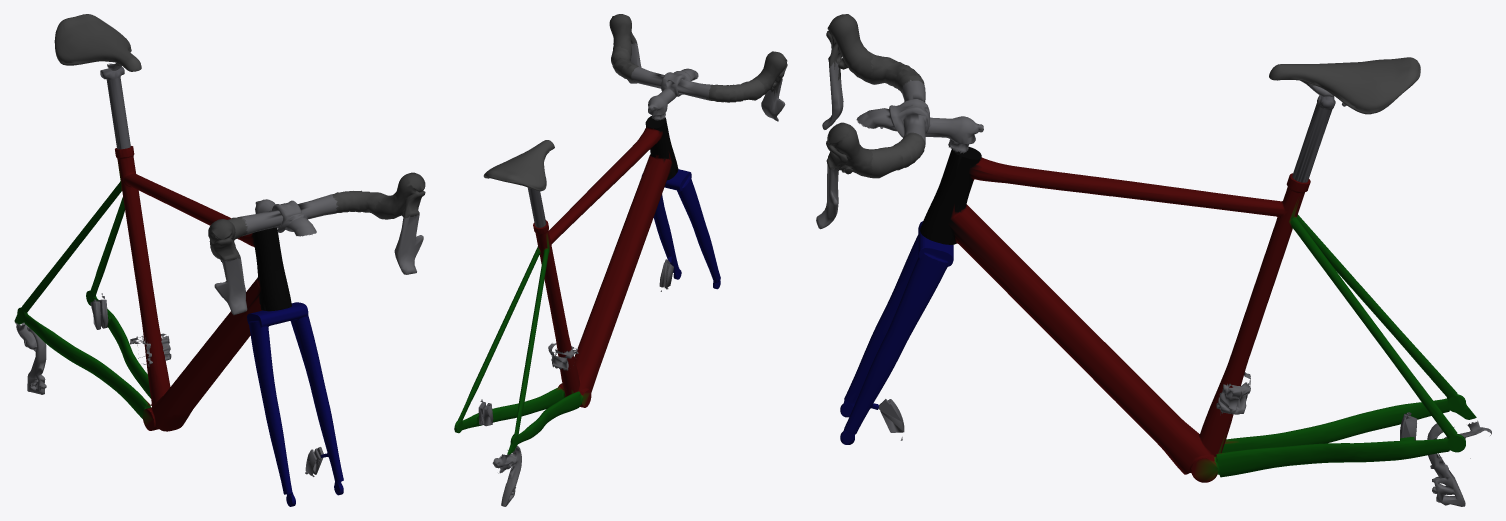
The model's file is look785m_lod1.glb.
The picture shows the model from 3 angles, left to right: view 1: azimuth 30°, elevation 25°; view 2: azimuth 150°, elevation 25°; view 3: azimuth 270°, elevation 25°; orthographic projection. The views are drawn at different scales.
Visible parts, largest first — view 1: frame, cockpit, fork, saddle, seatpost, etrier_arriere; view 2: frame, cockpit, fork, saddle, seatpost; view 3: frame, cockpit, fork, saddle, seatpost.
Boxes of the visible parts, left/top/right/bottom form: frame: left=14, top=146, right=291, bottom=431; cockpit: left=208, top=172, right=425, bottom=314; fork: left=247, top=302, right=343, bottom=506; saddle: left=54, top=14, right=141, bottom=71; seatpost: left=100, top=66, right=130, bottom=149; etrier_arriere: left=90, top=293, right=108, bottom=329; frame: left=454, top=116, right=678, bottom=506; cockpit: left=609, top=14, right=787, bottom=121; fork: left=642, top=169, right=720, bottom=289; saddle: left=483, top=140, right=554, bottom=191; seatpost: left=527, top=187, right=546, bottom=227; frame: left=920, top=146, right=1491, bottom=506; cockpit: left=816, top=14, right=983, bottom=229; fork: left=840, top=221, right=953, bottom=444; saddle: left=1269, top=57, right=1420, bottom=114; seatpost: left=1292, top=94, right=1335, bottom=182.
Size of the model in its own units: 0.4746 by 0.8168 by 1.1.
